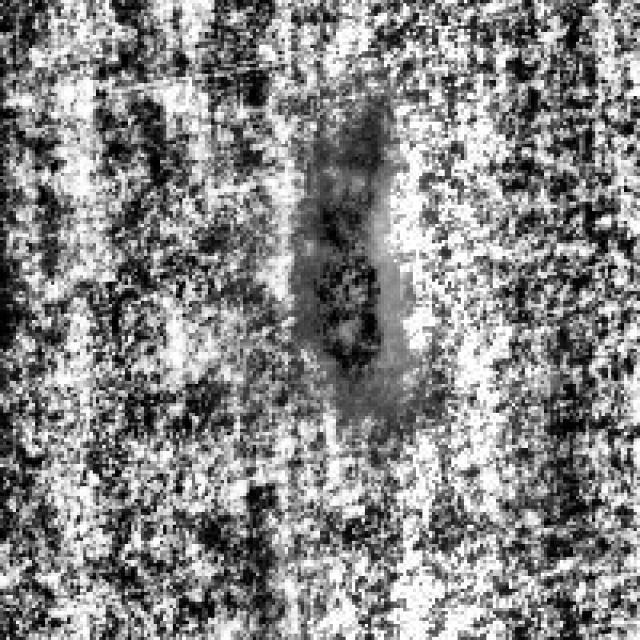Scratches: (282, 106, 387, 400)
